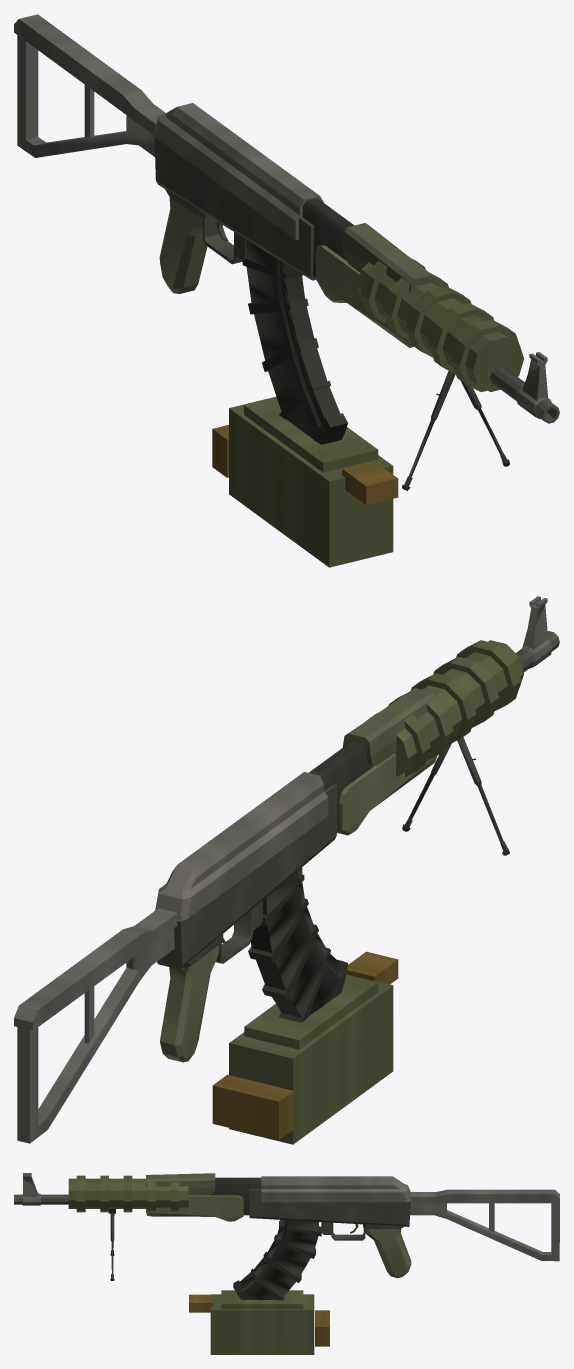
The picture shows the model from 3 angles, top to bottom: view 1: azimuth 30°, elevation 25°; view 2: azimuth 150°, elevation 25°; view 3: azimuth 270°, elevation 25°; orthographic projection. The views are drawn at different scales.
Parts seen in each view (by area): view 1: mule; view 2: mule; view 3: mule.
Boxes of the visible parts, <box> form: mule: <box>14,14,559,567</box>; mule: <box>14,596,559,1144</box>; mule: <box>14,1173,559,1354</box>.
Bounding box in the file's own units: 0.1229 × 0.3659 × 1.05.
1 material, 1 textured.
